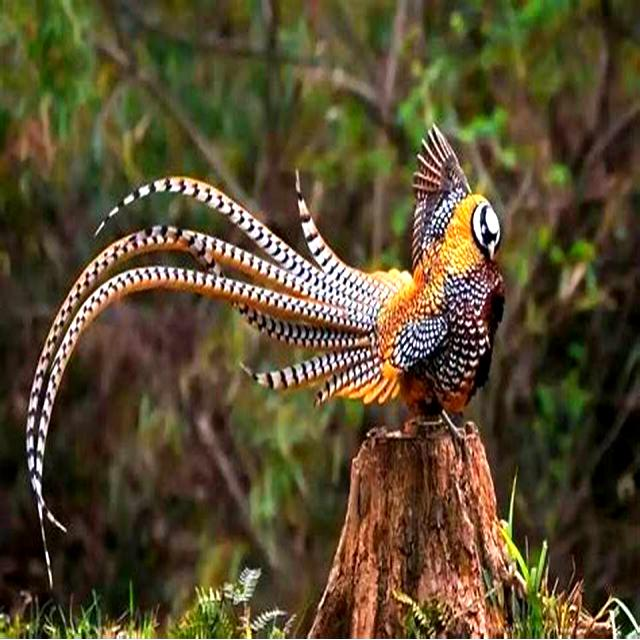Reeves-s Pheasant: (27, 165, 414, 589)
